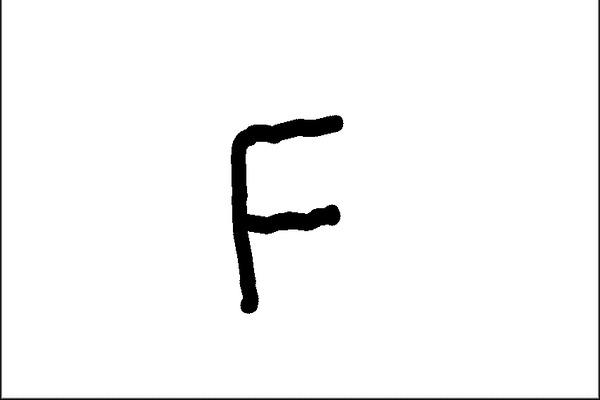F: (224, 111, 350, 315)
